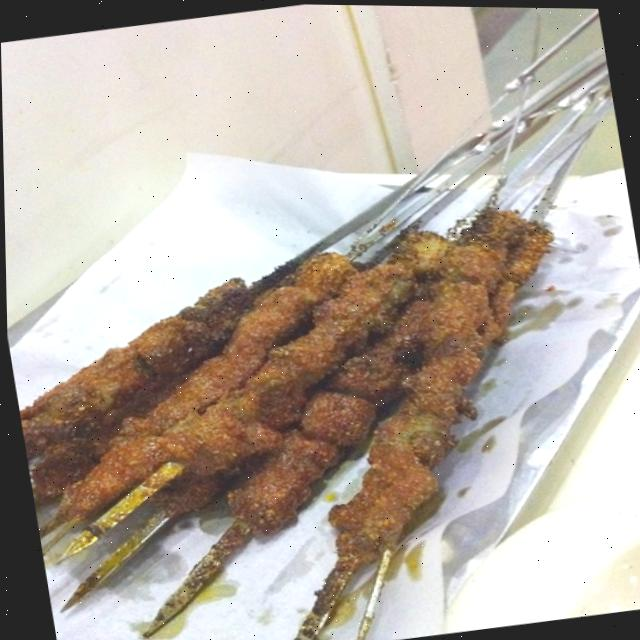烧串烤肉: (1, 84, 640, 638)
